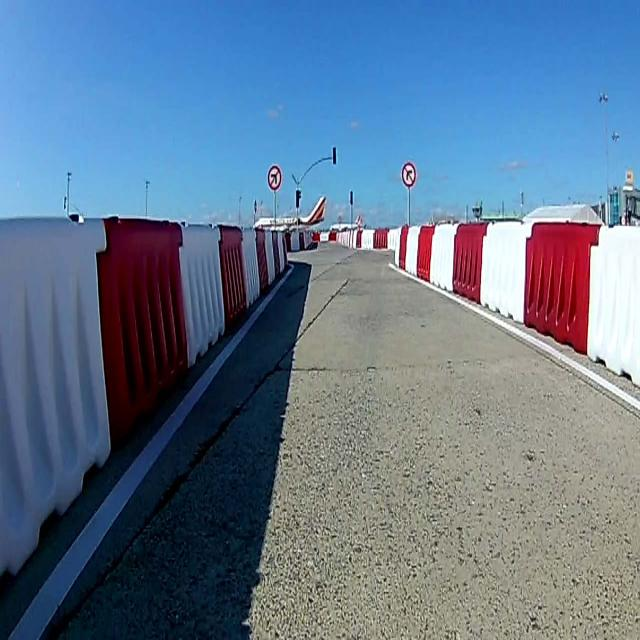sagadonulmez: (402, 162, 416, 186)
soladonulmez: (267, 166, 282, 190)
